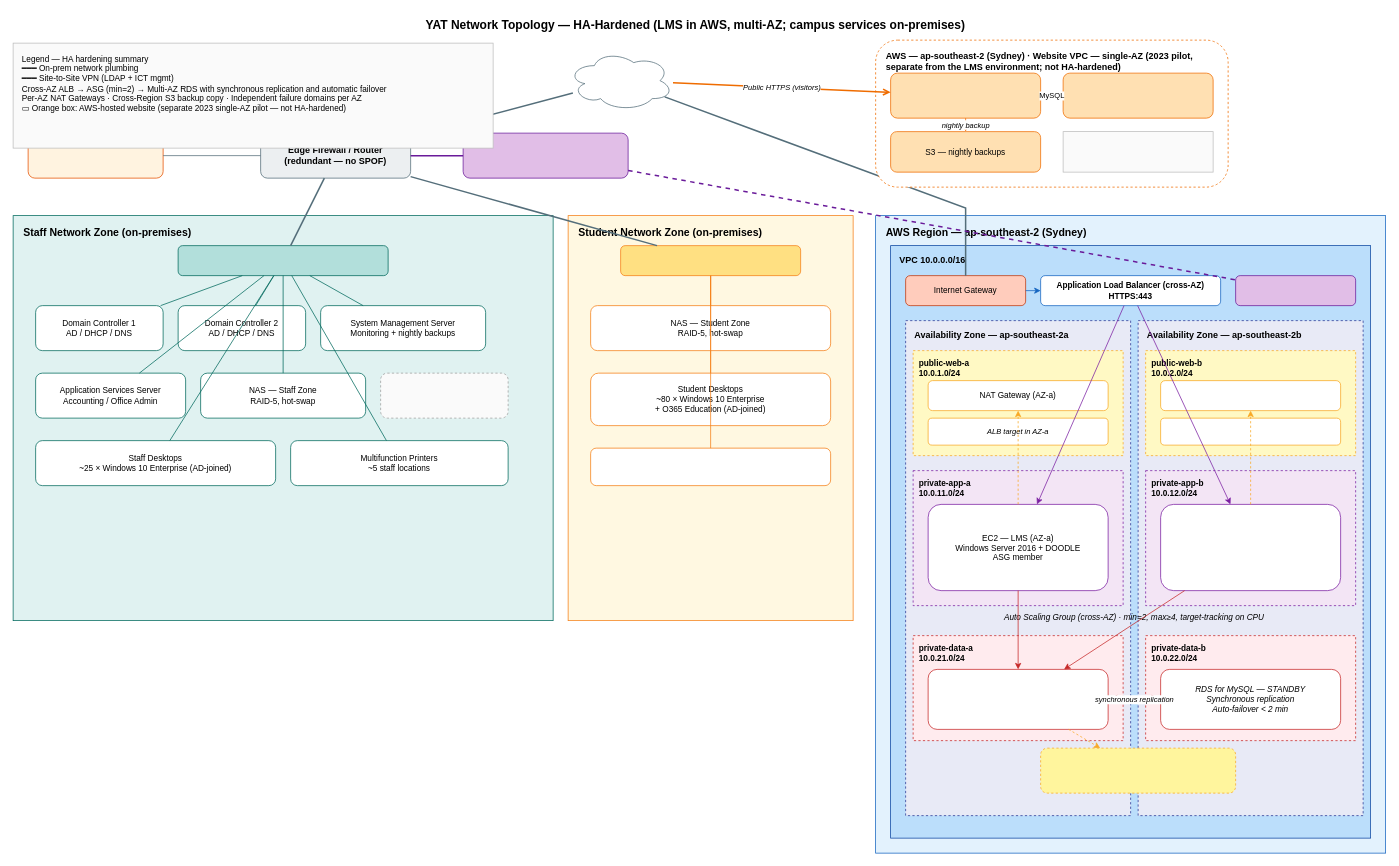
This 1399x866 diagram has some shape labels left out. Here are the shapes that lost their labels. From the top down, the centre of each, then its label:
At [620,80]: "Internet".
At [965,95]: "EC2 — Website LAMP / CMS single instance · SPOF".
At [1137,95]: "RDS for MySQL single-AZ · SPOF".
At [95,155]: "VPN Server (staff-only remote access) SPOF".
At [545,155]: "Site-to-Site VPN Campus ↔ AWS LDAP back-traffic + ICT mgmt".
At [1137,151]: "No load balancer No Multi-AZ · No DR".
At [282,260]: "Staff Zone Switch".
At [710,260]: "Student Zone Switch".
At [1295,290]: "VPN Gateway".
At [444,395]: "(LMS Server decommissioned at cutover — now in AWS)".
At [1250,395]: "NAT Gateway (AZ-b)".
At [1250,431]: "ALB target in AZ-b".
At [710,466]: "Classroom Printers ~15 — one per classroom".
At [1250,547]: "EC2 — LMS (AZ-b) Windows Server 2016 + DOODLE ASG member".
At [1017,699]: "RDS for MySQL — PRIMARY Multi-AZ deployment".
At [1138,770]: "S3 — Cross-Region backup copy (ap-southeast-2 → ap-southeast-4) automated daily".
